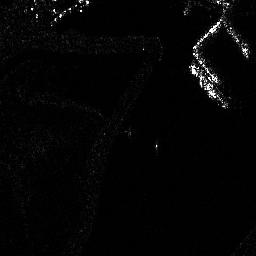ship: (188, 63, 217, 100)
